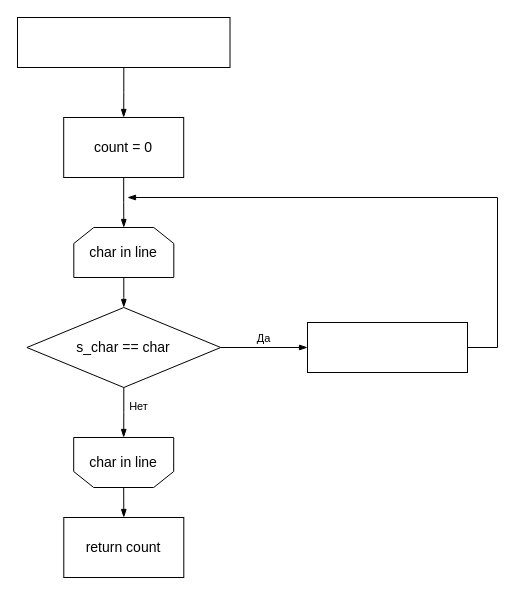
This 523x595 diagram has some shape labels left out. Here are the shapes that lost their labels. From the top down, the box of each, then its label:
(16, 16, 230, 68): calculate_chars(line, s_char)
(306, 322, 468, 372): count += 1
